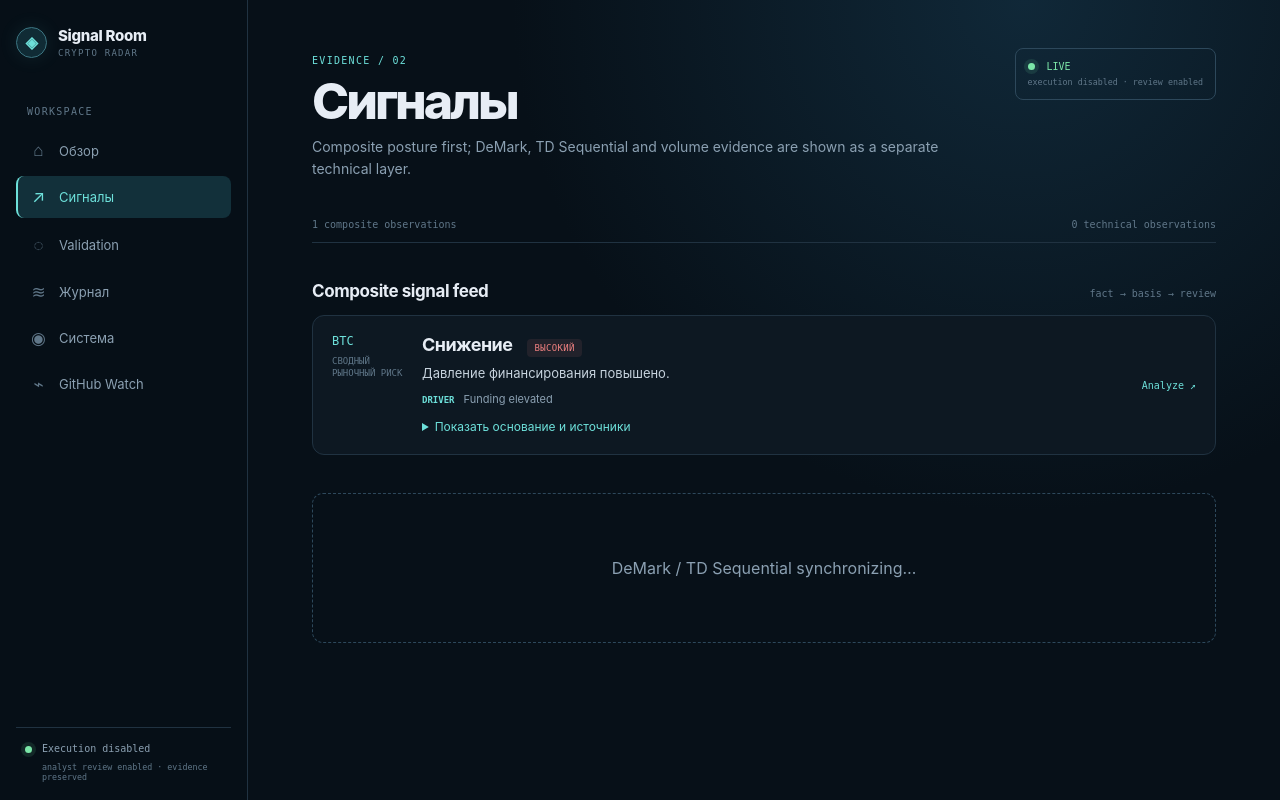
Scenario: new Signal Room UI › keeps evidence collapsed until analyst opens it
The width and height of the screenshot is (1280, 800).
Expected: the heading "Сигналы" is shown, 312,71 -> 517,131
Click the heading "Показать основание и источники" at x=533, y=427, box 435,419 -> 630,434
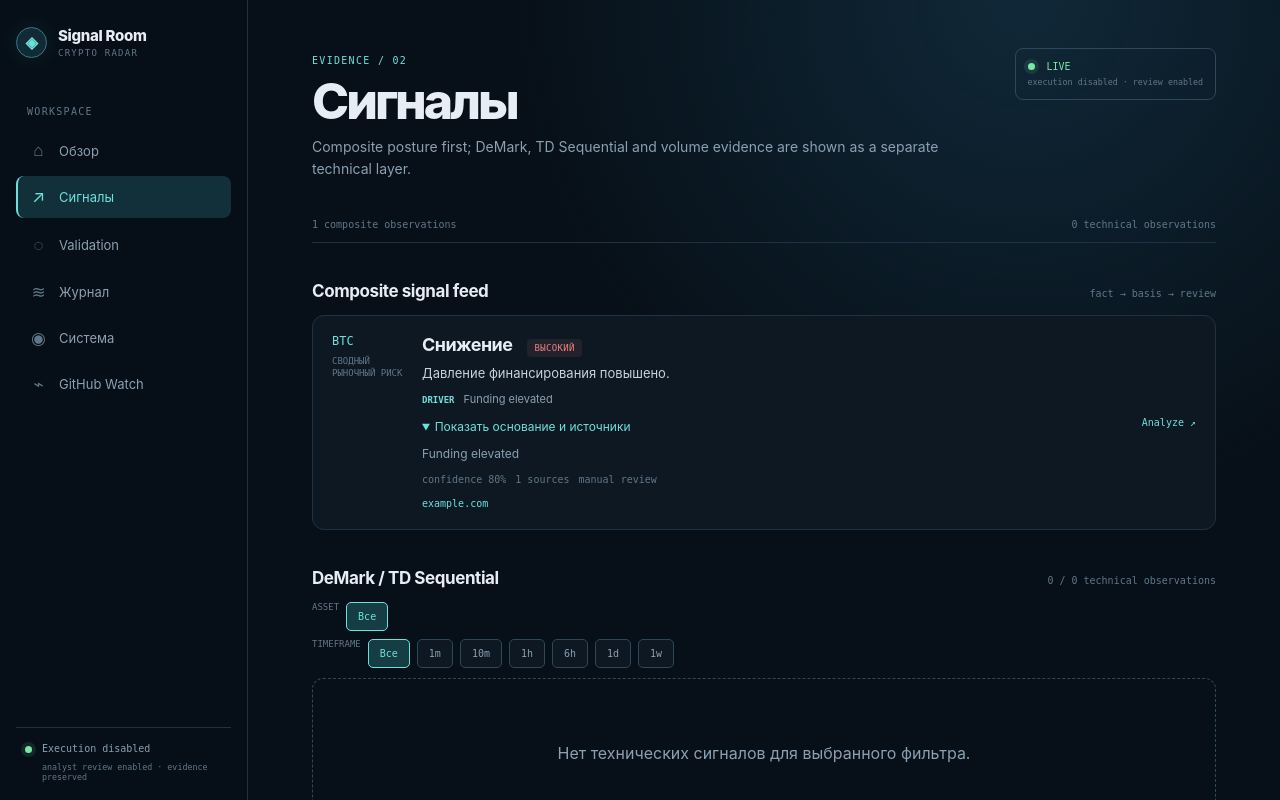
Expected: the text "Funding elevated" is shown, 422,446 -> 519,461
Expected: the text "example.com" is shown, 422,496 -> 488,511
